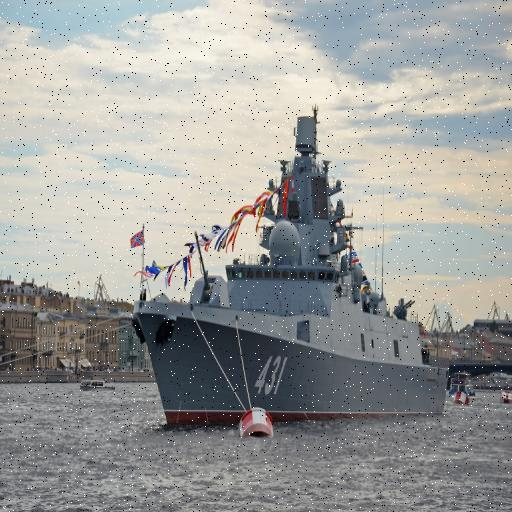Fragata: (126, 96, 458, 434)
